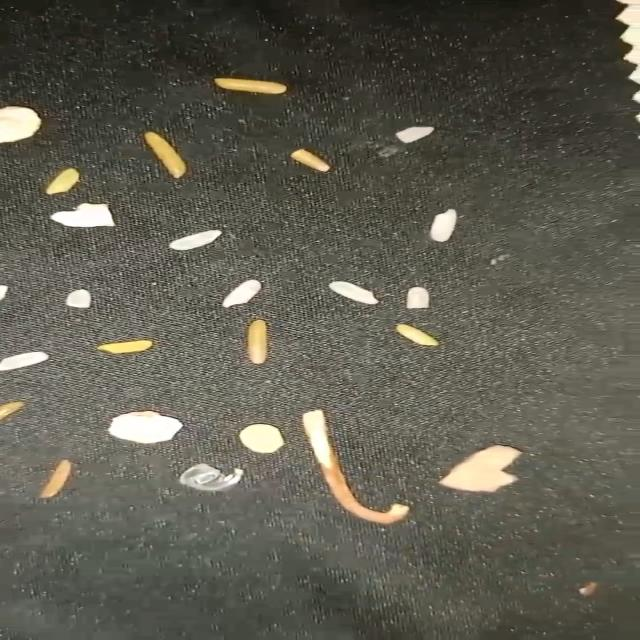Broken: (144, 132, 187, 178), (37, 459, 71, 498), (215, 78, 288, 94), (289, 148, 332, 172), (396, 324, 440, 346), (45, 168, 80, 195), (247, 319, 267, 365), (96, 340, 153, 354), (396, 126, 434, 143), (0, 401, 25, 421), (406, 287, 429, 308), (66, 289, 91, 308)
Full: (170, 230, 222, 250), (0, 352, 49, 372), (429, 208, 456, 242)
